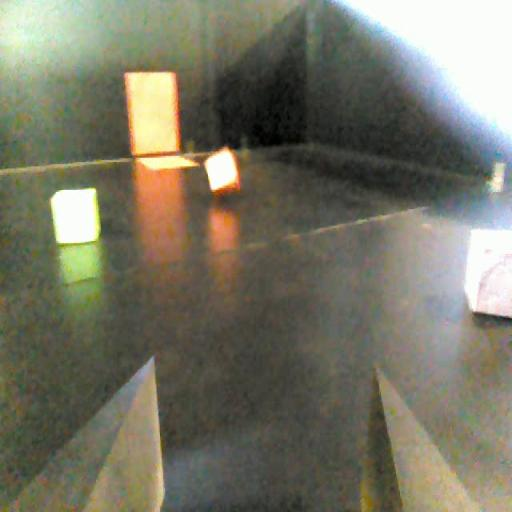cube: (43, 188, 105, 248), (197, 145, 244, 201)
